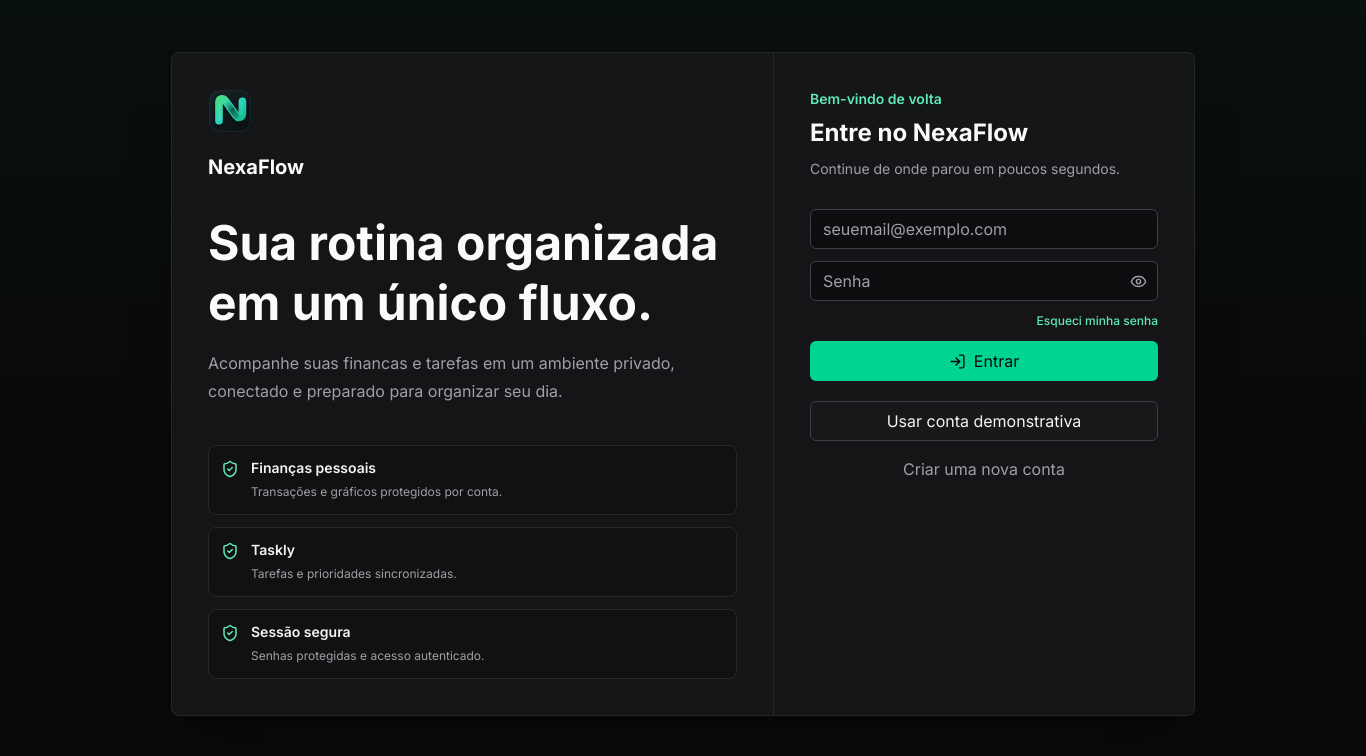
Test: NexaFlow › entra com a conta demonstrativa
The width and height of the screenshot is (1366, 756).
Click the button "Usar conta demonstrativa": coordinates (984, 421) [810, 401, 1158, 441]
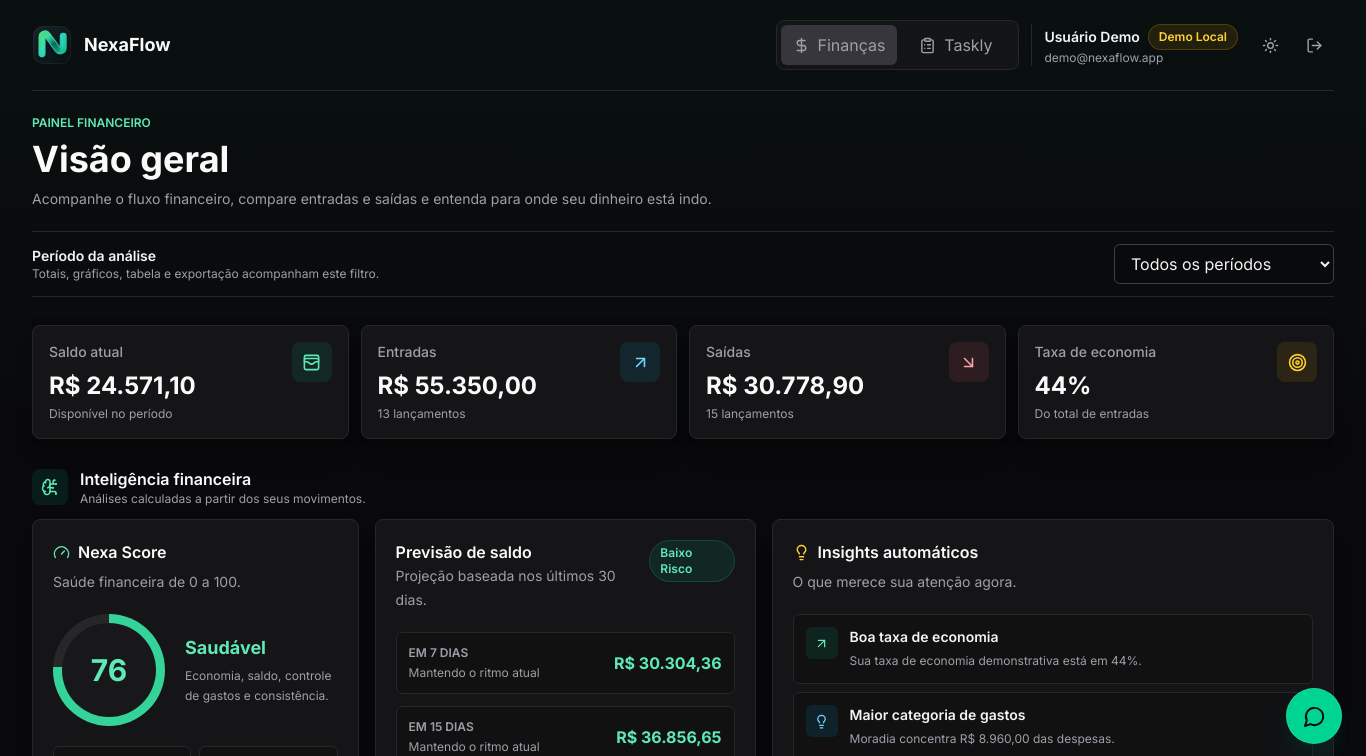
Expected: the text "Usuário Demo" is shown, [1044, 27, 1140, 47]
Expected: the picture named "Nexa Score" is shown, [53, 614, 165, 726]
